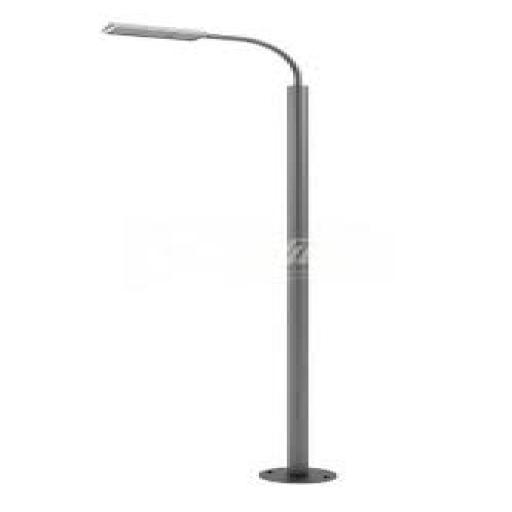Light-pole: (96, 6, 360, 505)
